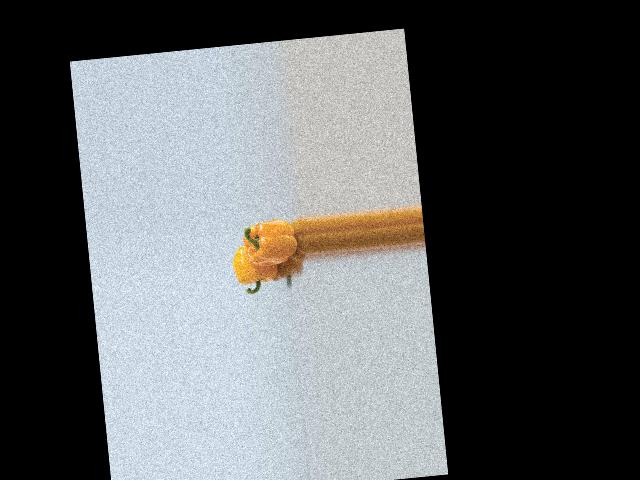bell_pepper: (231, 241, 287, 294)
